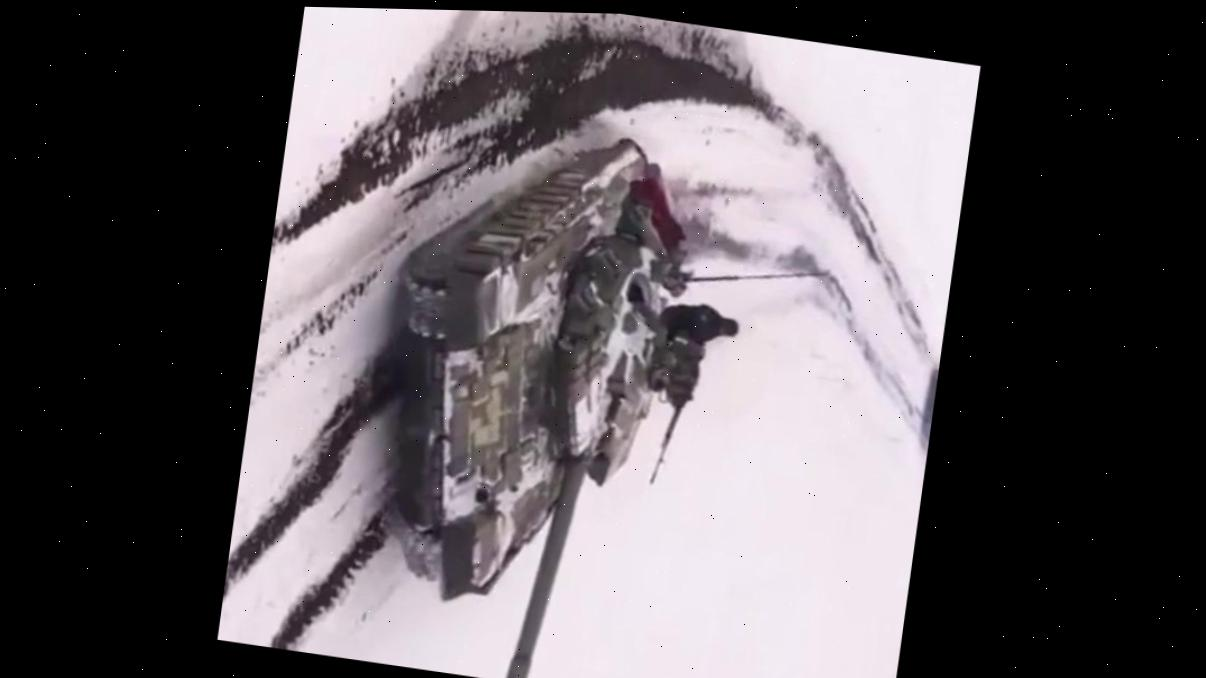tank: (343, 103, 766, 678), (912, 355, 940, 468)
